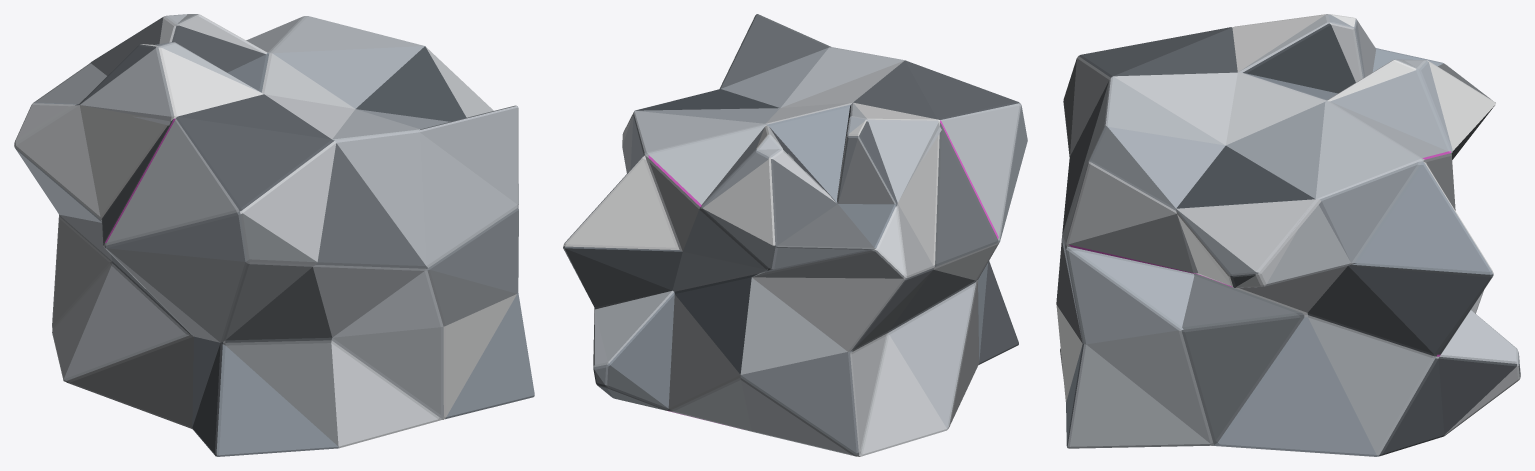
Rendered from MineableGold_a.fbx.
3 renders of one model, left to right at view 1: azimuth 30°, elevation 25°; view 2: azimuth 150°, elevation 25°; view 3: azimuth 270°, elevation 25°, orthographic. The views are drawn at different scales.
Visible parts, largest first — view 1: MineableGold_a; view 2: MineableGold_a; view 3: MineableGold_a.
Part boxes in pixels (bbox=[...]): MineableGold_a: bbox=[14, 14, 534, 456]; MineableGold_a: bbox=[563, 14, 1027, 456]; MineableGold_a: bbox=[1056, 14, 1520, 456].
Size of what is drawn, in the model's own units: 0.7953 by 0.5988 by 0.7986.
